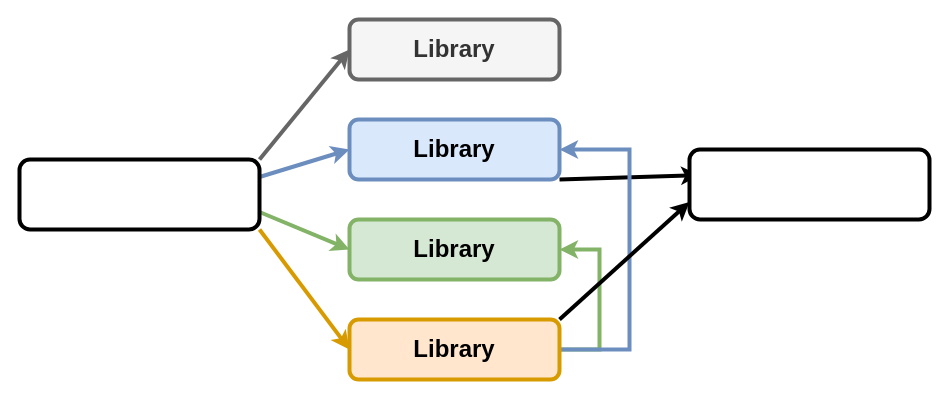
Image size: 948x398. Some labels were removed from this diagram. The centre of each missing label's shape, as x and y in pixels:
"applications" belongs at (139,194).
"operating system" belongs at (809,184).
